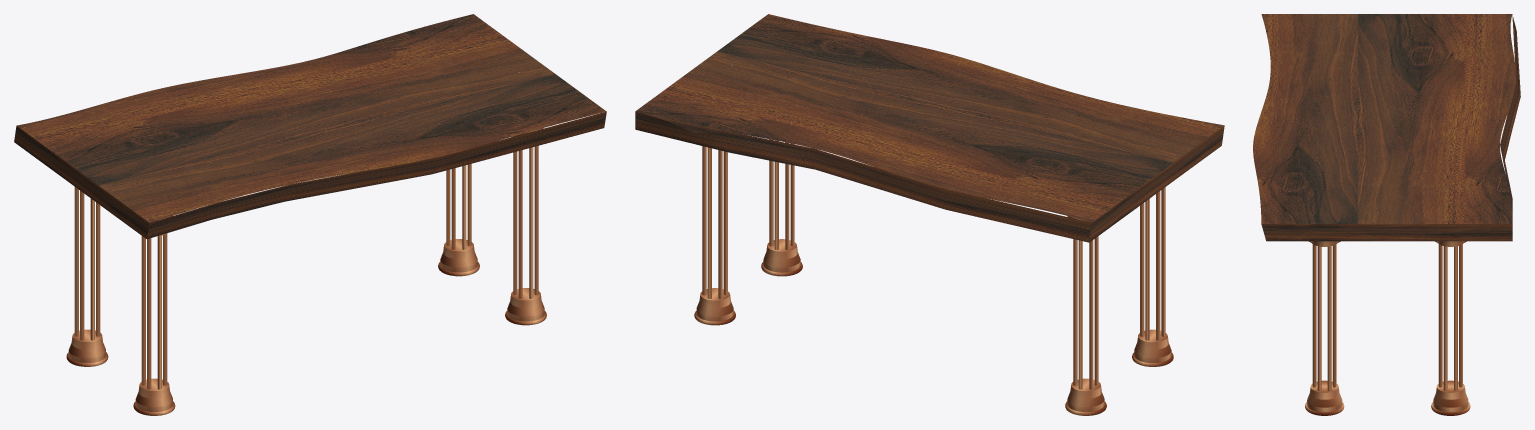
The model's file is cuprodorico.gltf.
The picture shows the model from 3 angles, left to right: view 1: azimuth 30°, elevation 25°; view 2: azimuth 150°, elevation 25°; view 3: azimuth 270°, elevation 25°; orthographic projection. The views are drawn at different scales.
Parts seen in each view (by area): view 1: mesh_4; view 2: mesh_4; view 3: mesh_4.
Part boxes in pixels (x1,y1,x2,y2): mesh_4: [14, 14, 606, 415]; mesh_4: [635, 14, 1224, 415]; mesh_4: [1253, 14, 1520, 415].
Bounding box in the file's own units: 99 × 45.2 × 53.36.
Materials: 2 (2 with a texture image).
